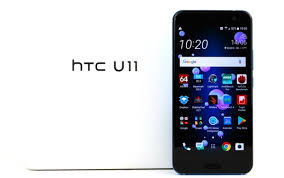htc: (170, 8, 257, 176)
